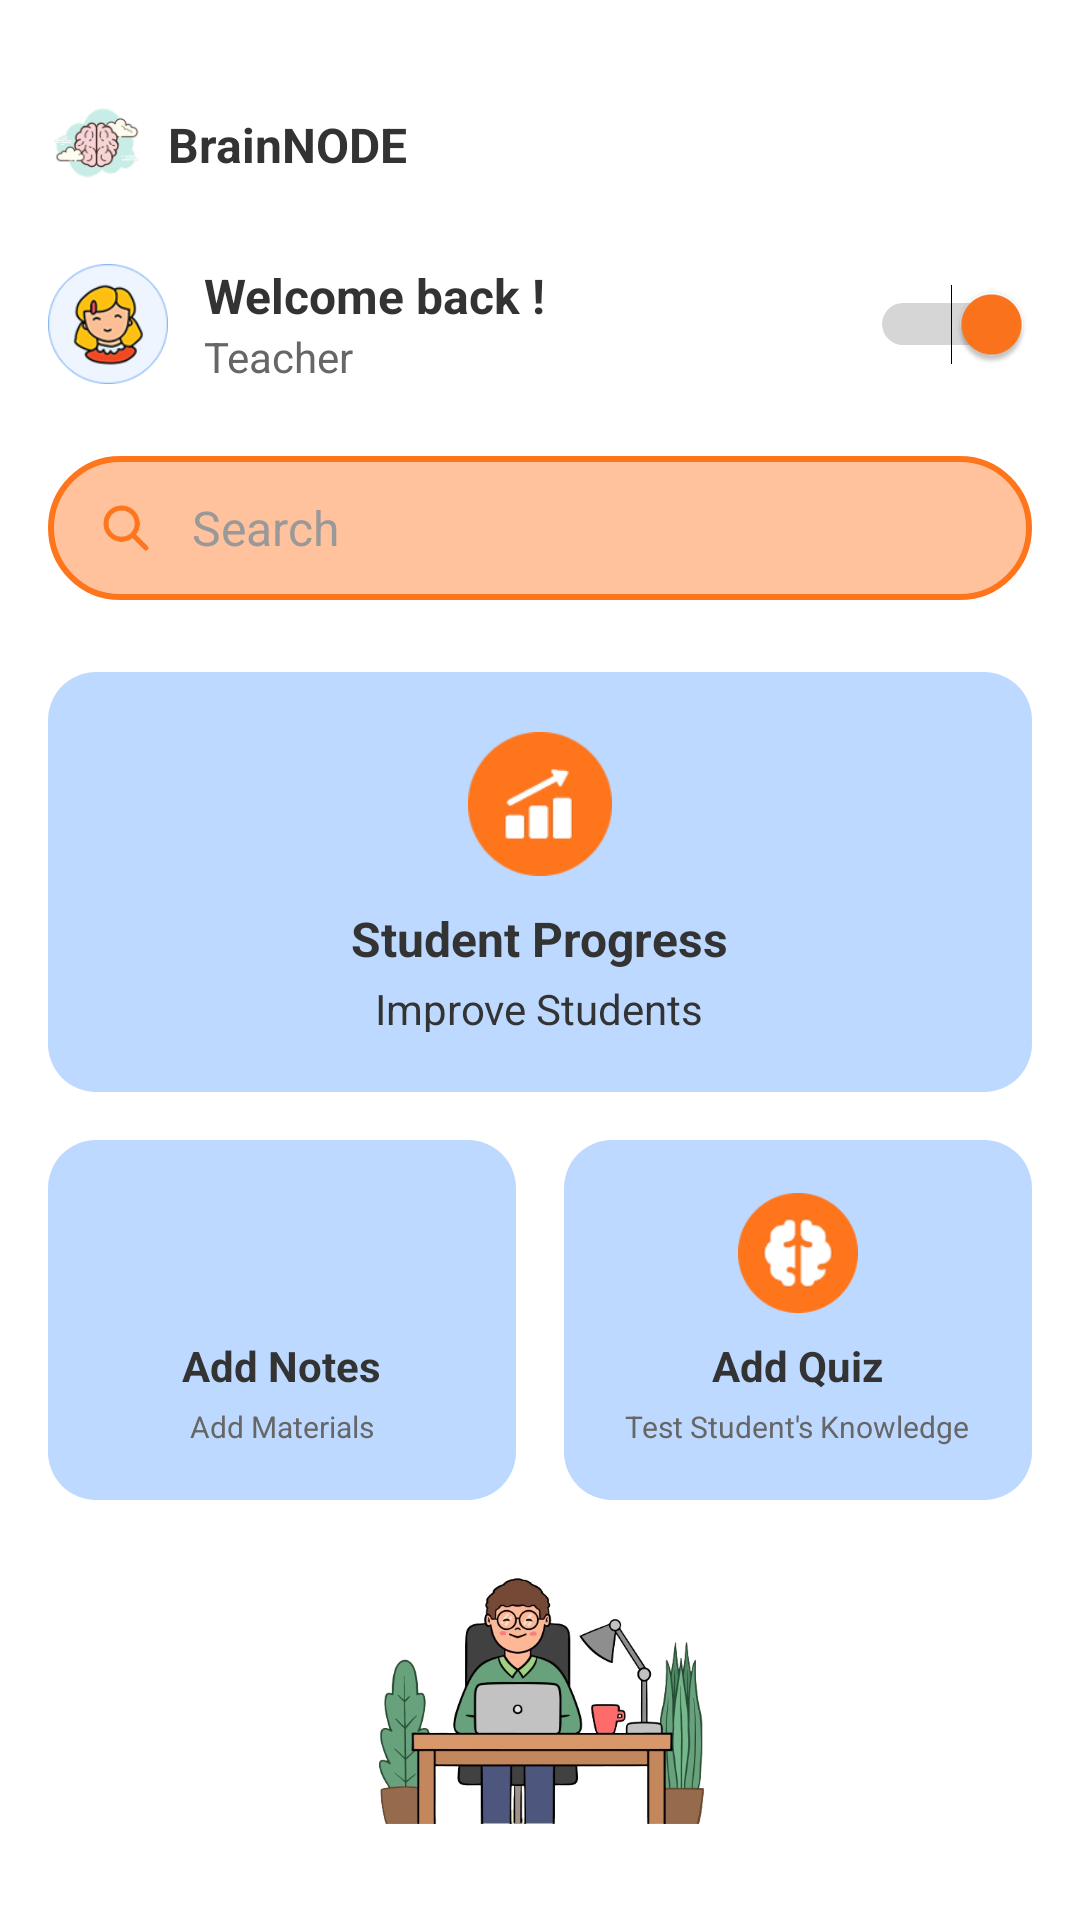

Icons on this 1080w x 1920h Android screen, each with the point to tap as (x,y):
home illustration: (541,1701)
user profile picture girl: (108,324)
